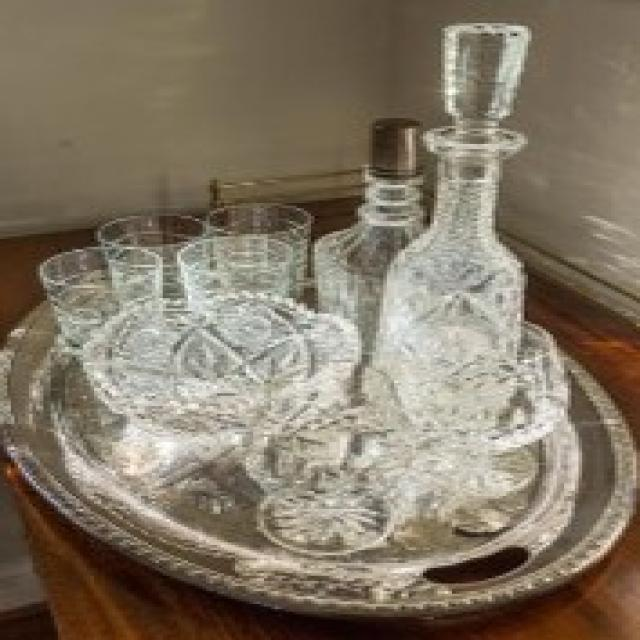electronic: (36, 17, 571, 560)
